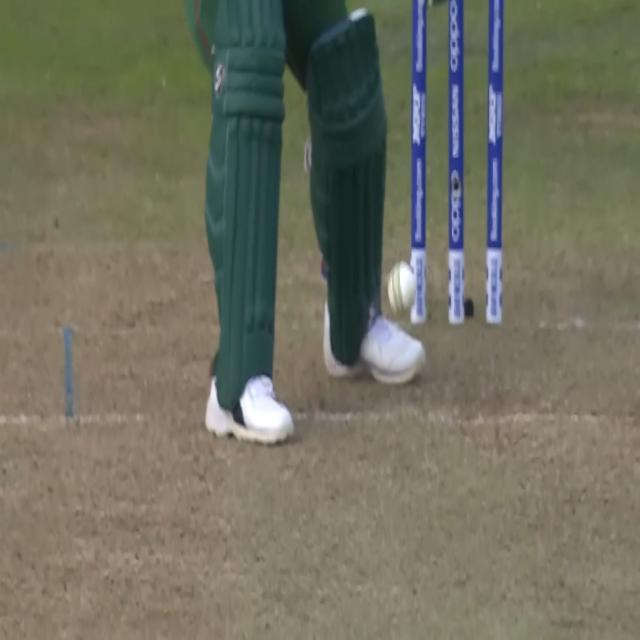ball: (384, 260, 421, 313)
